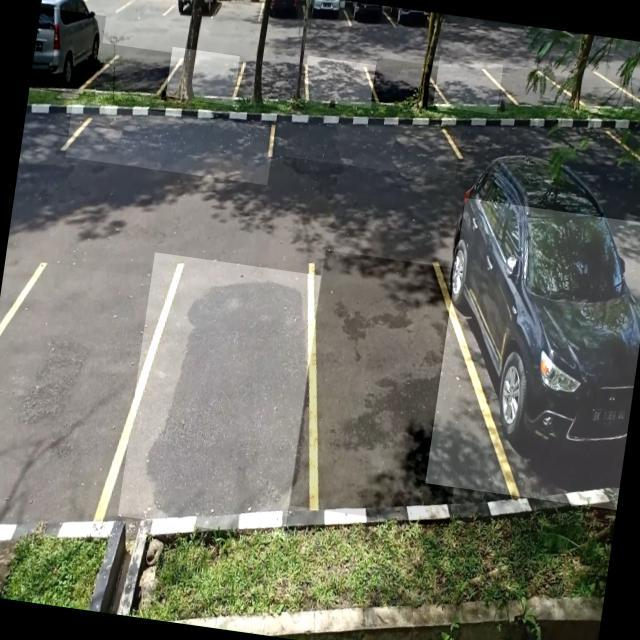empty: (118, 252, 322, 540), (290, 251, 484, 528), (0, 258, 152, 543), (66, 100, 276, 186), (270, 106, 462, 180), (95, 43, 182, 102), (166, 46, 246, 106), (234, 54, 312, 112), (432, 56, 503, 115), (302, 56, 376, 110), (372, 58, 442, 110)
occupied: (425, 198, 640, 510), (29, 8, 106, 98)
